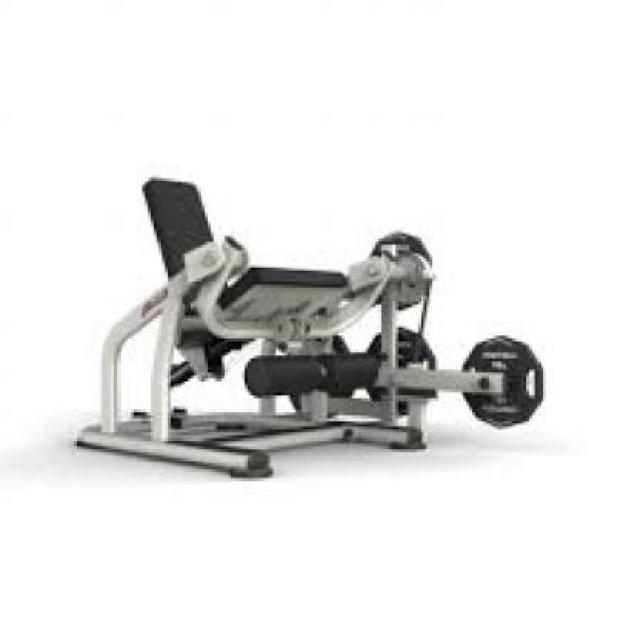leg extension: (65, 152, 549, 518)
